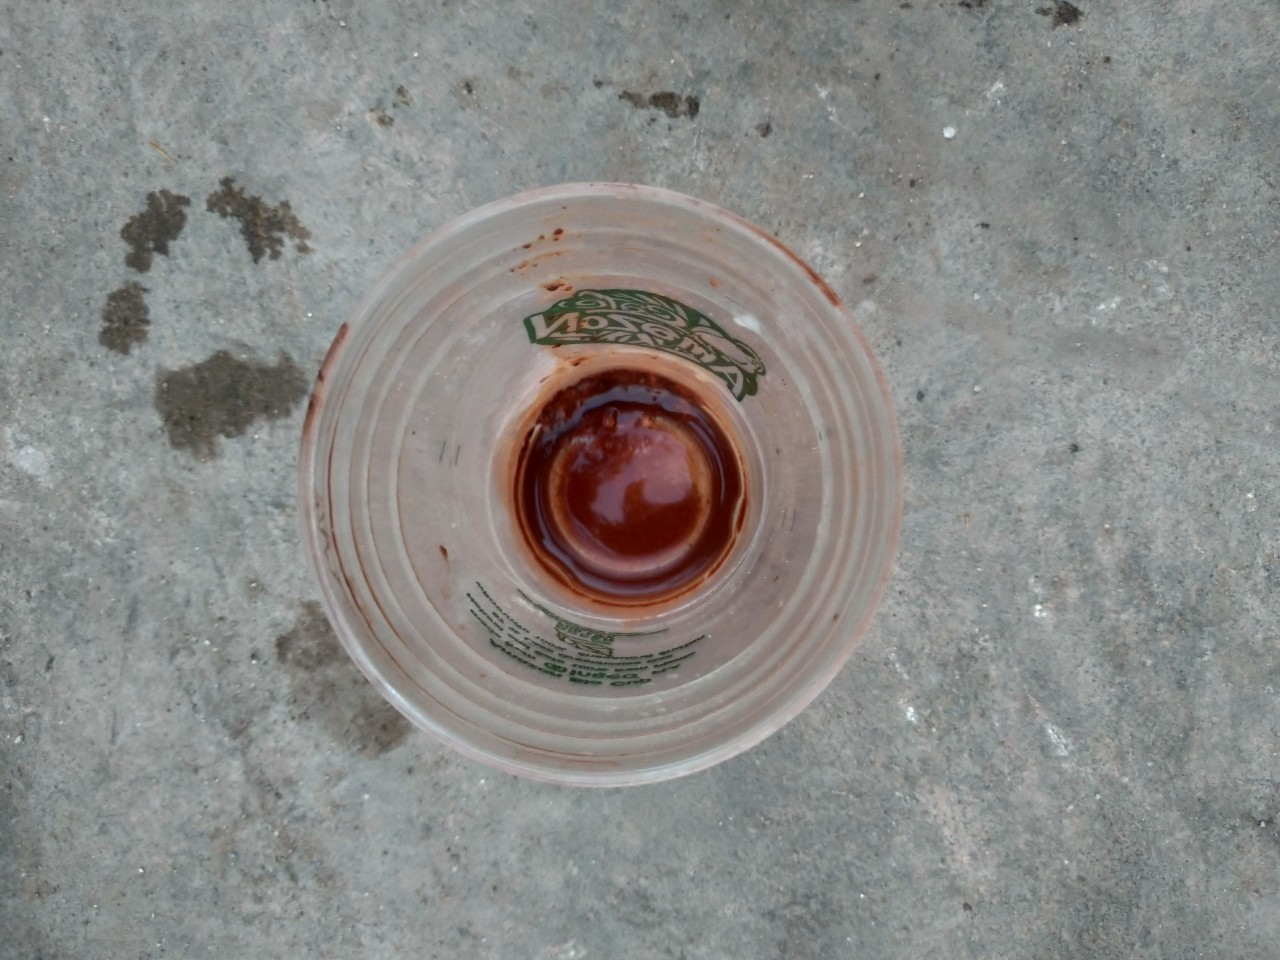PlasticCup: (300, 177, 908, 790)
